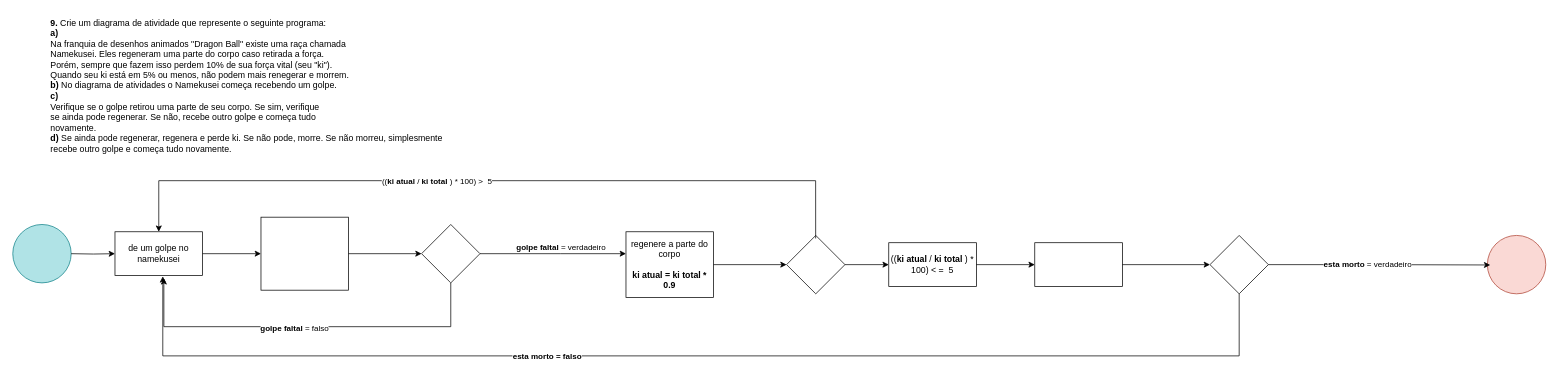
The diagram is 1559 pixels wide and 374 high, and some of its shapes have lost their labels. The centre of each missing label's shape, as x and y in pixels:
"morra esta morto" goes at point 1078,264.
"receba se namekusei perdeu uma parte do corpo golpe fatal" goes at point 304,253.
